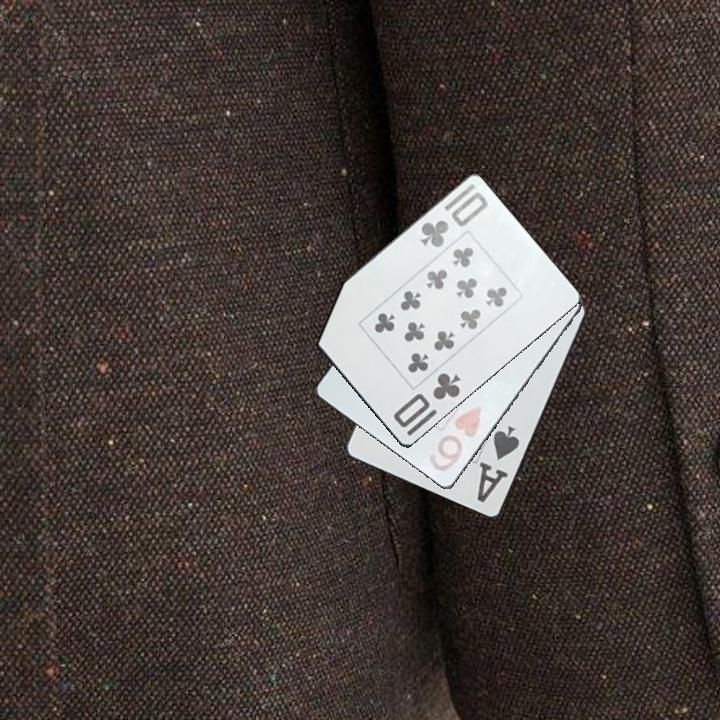6h: (424, 403, 488, 478)
As: (473, 422, 523, 506)
Tc: (413, 180, 493, 251), (390, 368, 464, 431)
